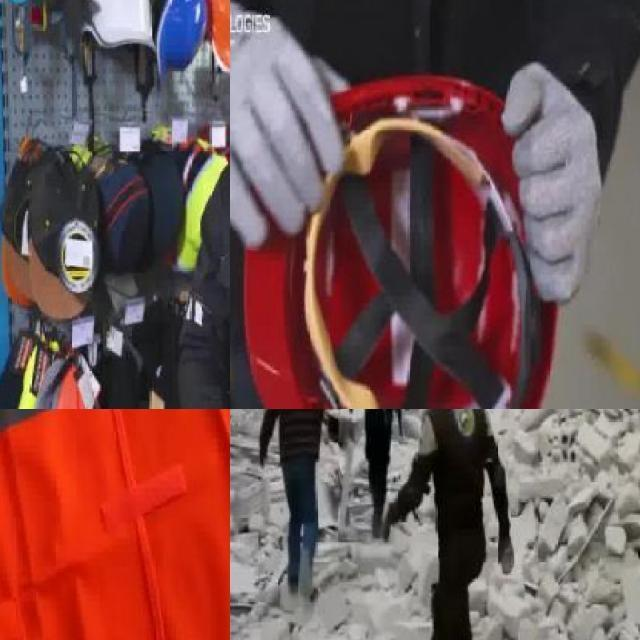apron: (230, 0, 350, 254), (498, 55, 603, 308)
